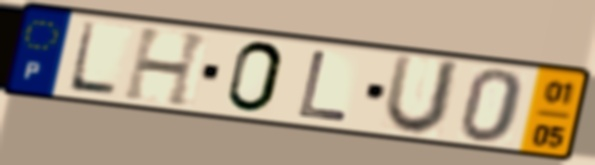0: (456, 66, 527, 145), (224, 39, 286, 116)
H: (119, 25, 214, 110)
L: (64, 18, 122, 99), (293, 48, 352, 125)
U: (379, 51, 465, 138)
